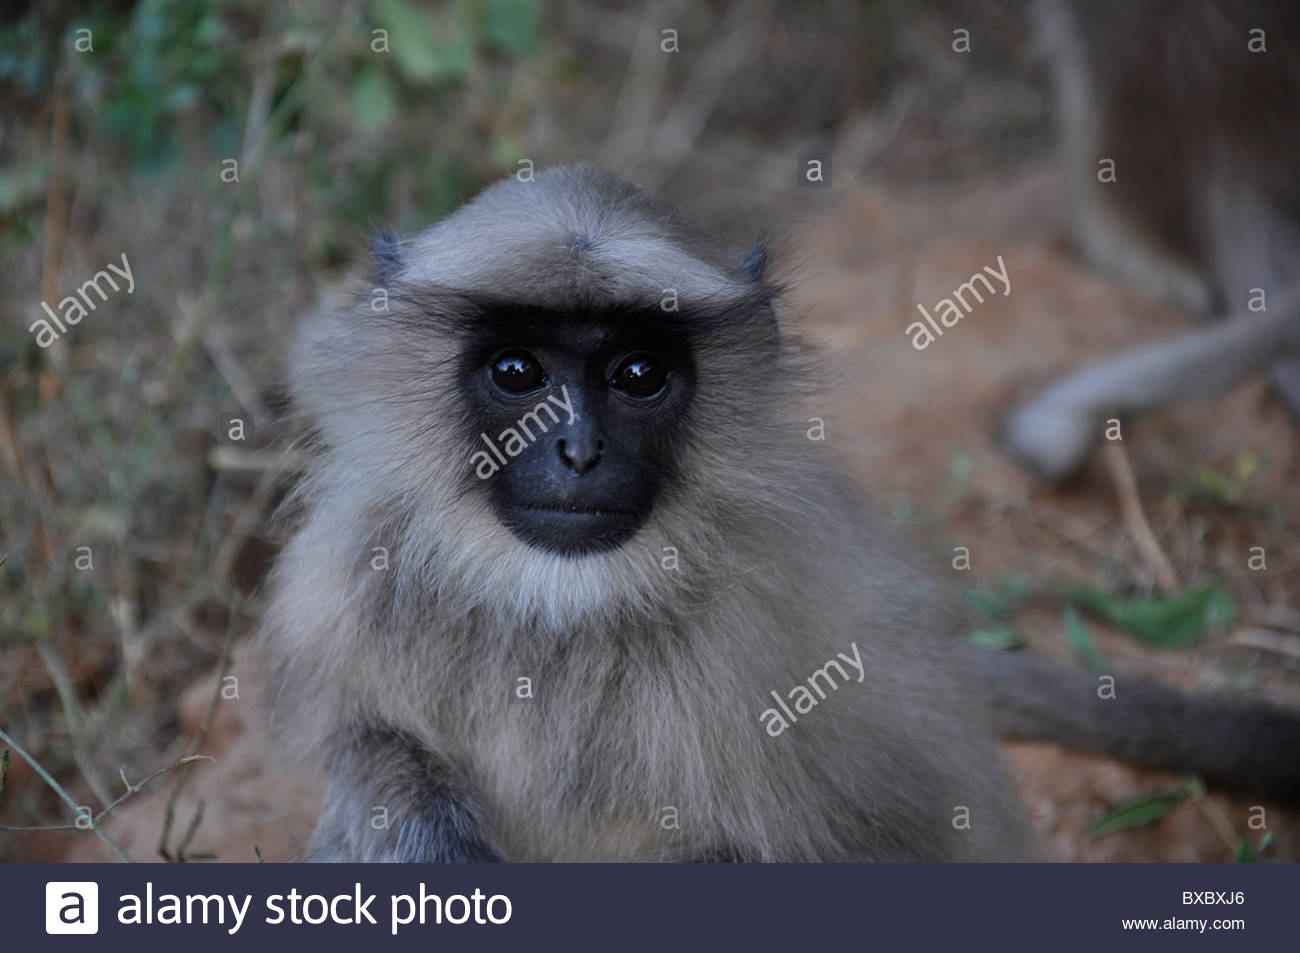langur: (245, 153, 1275, 869)
